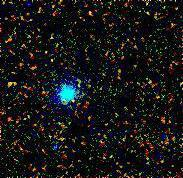star: (43, 129, 73, 159)
